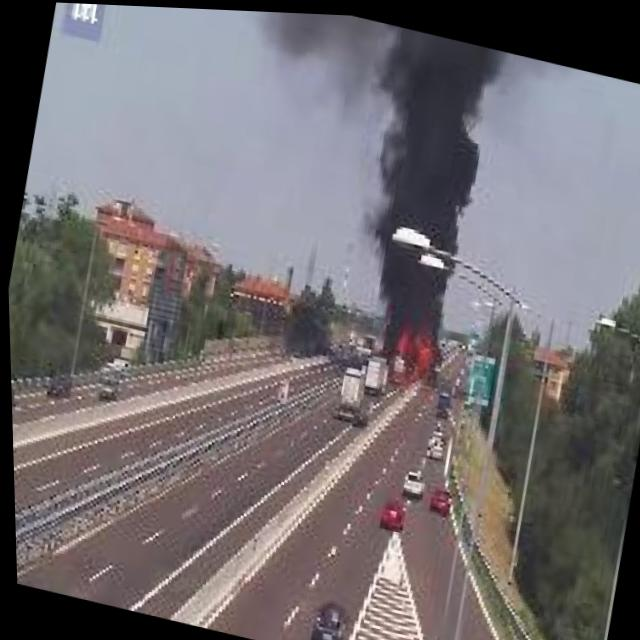fire: (381, 312, 444, 393)
